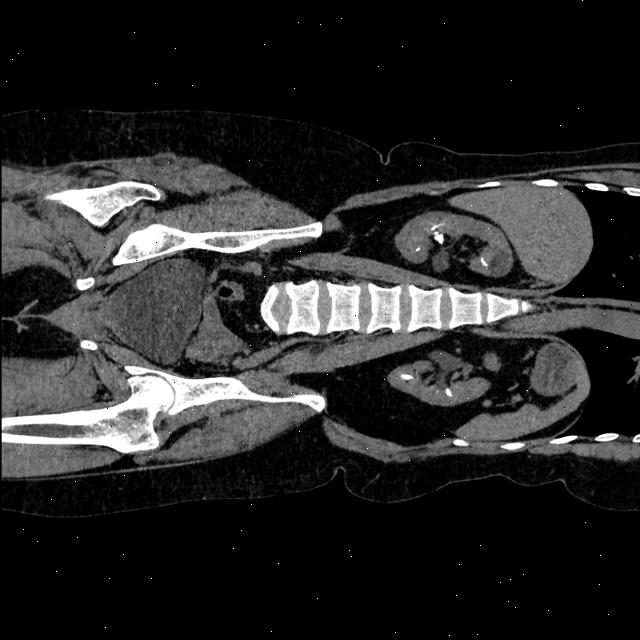kidneystone: (430, 223, 444, 231), (415, 246, 427, 254), (434, 234, 444, 242), (479, 258, 487, 267), (444, 389, 452, 398), (400, 375, 413, 380)
